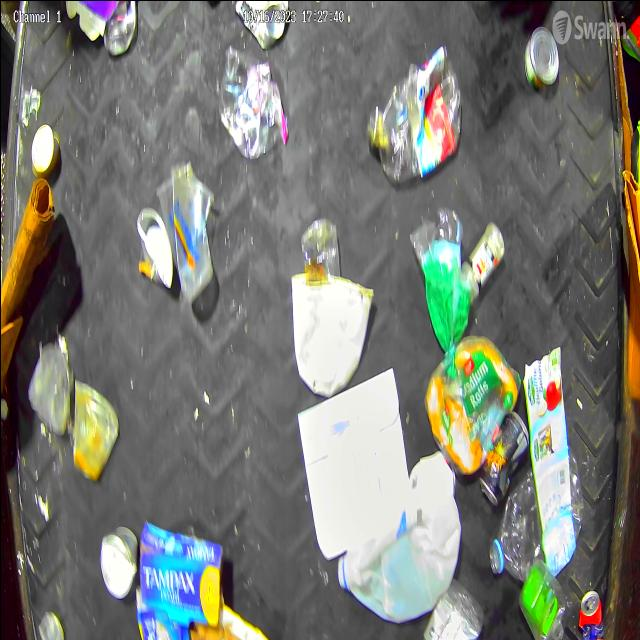can: (476, 408, 530, 508), (96, 517, 143, 607), (519, 20, 563, 106)
milk_jug: (335, 445, 460, 623)
plastic_bottle: (480, 448, 585, 586), (362, 45, 456, 180)
